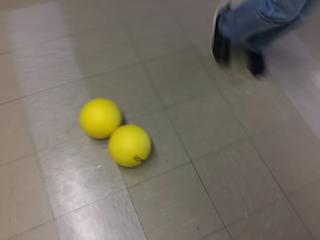power_cell: (109, 123, 155, 169), (79, 97, 123, 141)
